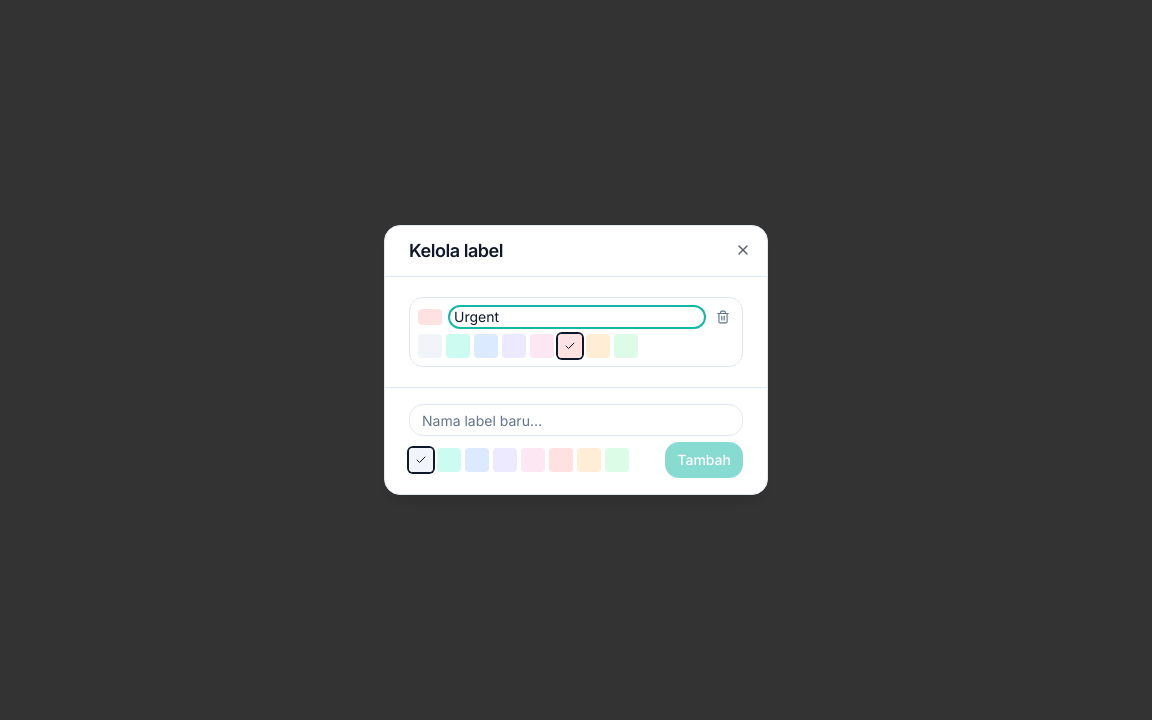
Test case: LabelManagerDialog › disables "Tambah" until a name is typed
The image size is (1152, 720).
Expected: the button "Tambah" is disabled, [665,442,743,478]
Type "x" into the field labelled "Nama label baru" at [576, 420], box [409,404,743,436]
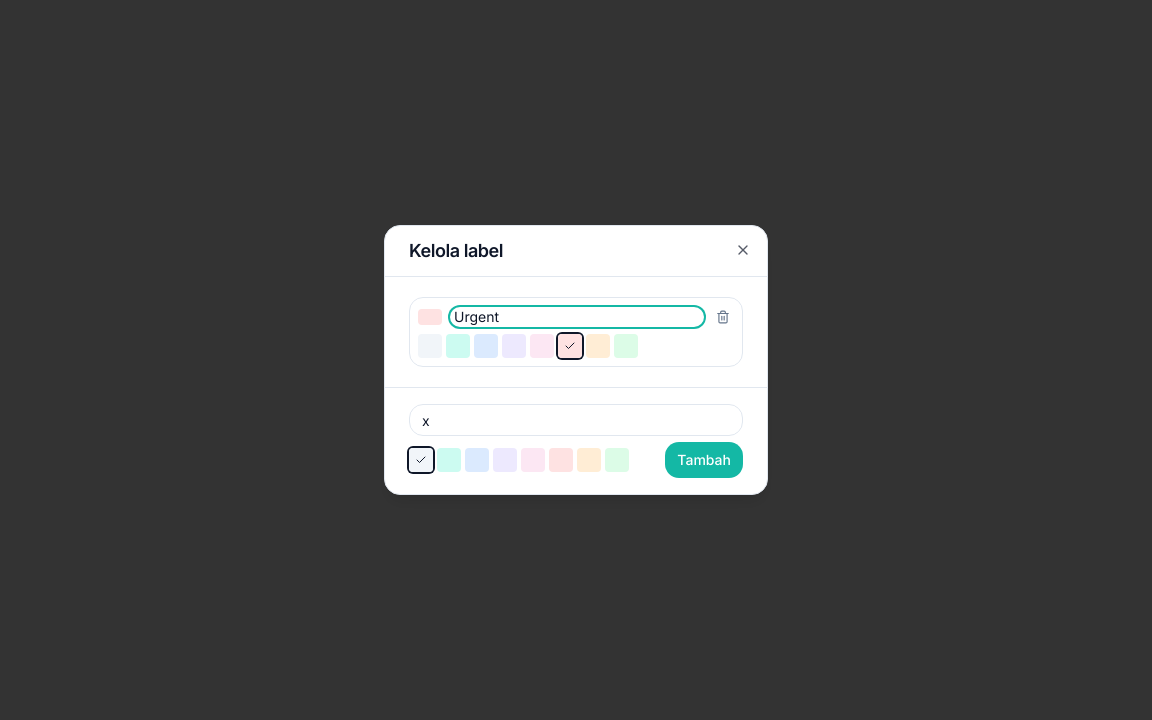
Result: the button "Tambah" is enabled at [665,442,743,478]
